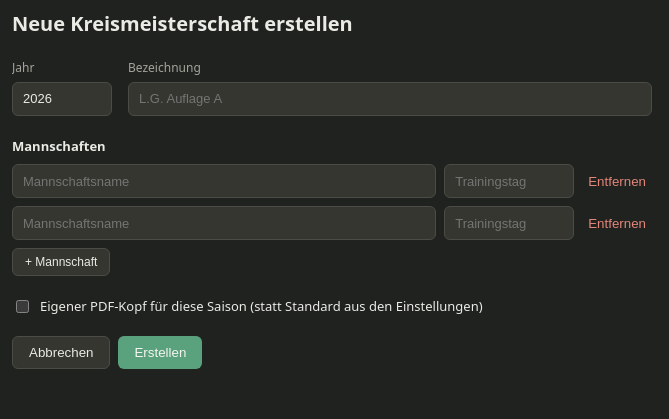
Scenario: CreateSeasonForm › shows the backend's error message on failure
The image size is (669, 419).
Type "Meppen 1" into the 1st field with placeholder "Mannschaftsname" at (224, 181), box [12,164,436,198]
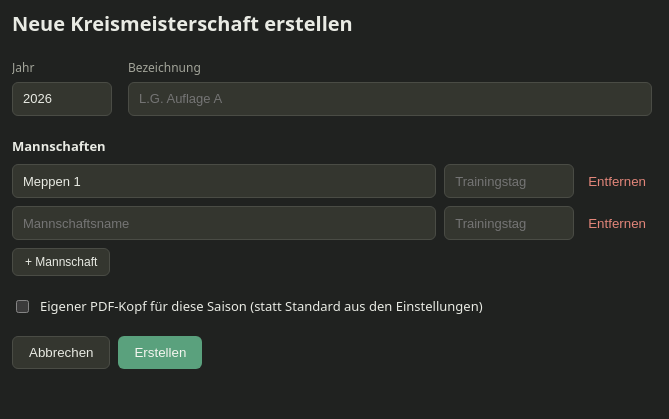
Type "Geeste 1" into the field with placeholder "Mannschaftsname" at (224, 223), box [12,206,436,240]
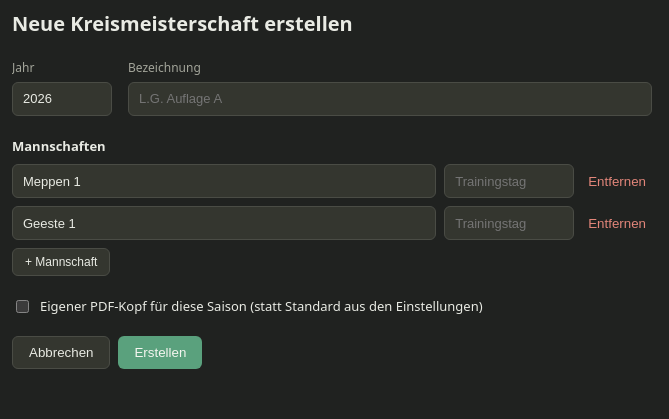
Click the button "Erstellen" at (160, 353), box [118,336,202,369]
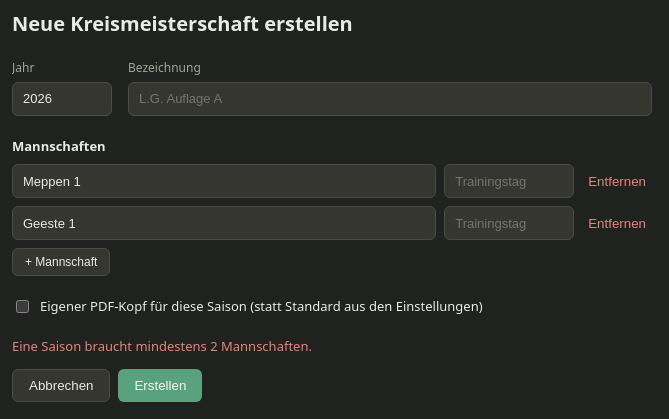
Check: the text "Eine Saison braucht mindestens 2 Mannschaften." is shown, box [12,337,312,355]
